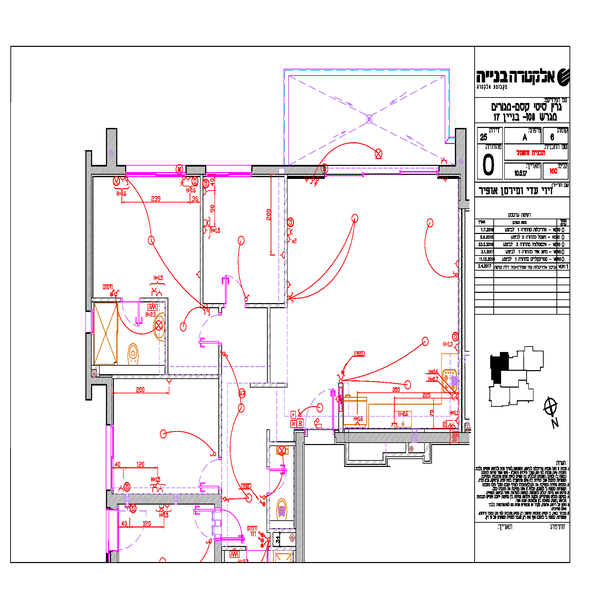door: (209, 504, 254, 540), (194, 313, 232, 353), (194, 454, 229, 494), (115, 290, 150, 329), (264, 464, 292, 507), (220, 268, 248, 306)
room: (283, 157, 471, 445), (83, 157, 203, 378), (102, 365, 227, 502)
wall: (334, 430, 470, 443), (294, 429, 306, 560), (85, 152, 94, 315), (102, 493, 221, 504), (452, 130, 467, 204), (251, 165, 324, 179), (105, 127, 122, 174), (86, 333, 95, 401), (107, 387, 117, 427), (185, 164, 208, 180), (97, 374, 115, 387)
window: (127, 164, 183, 179), (209, 162, 251, 178)
